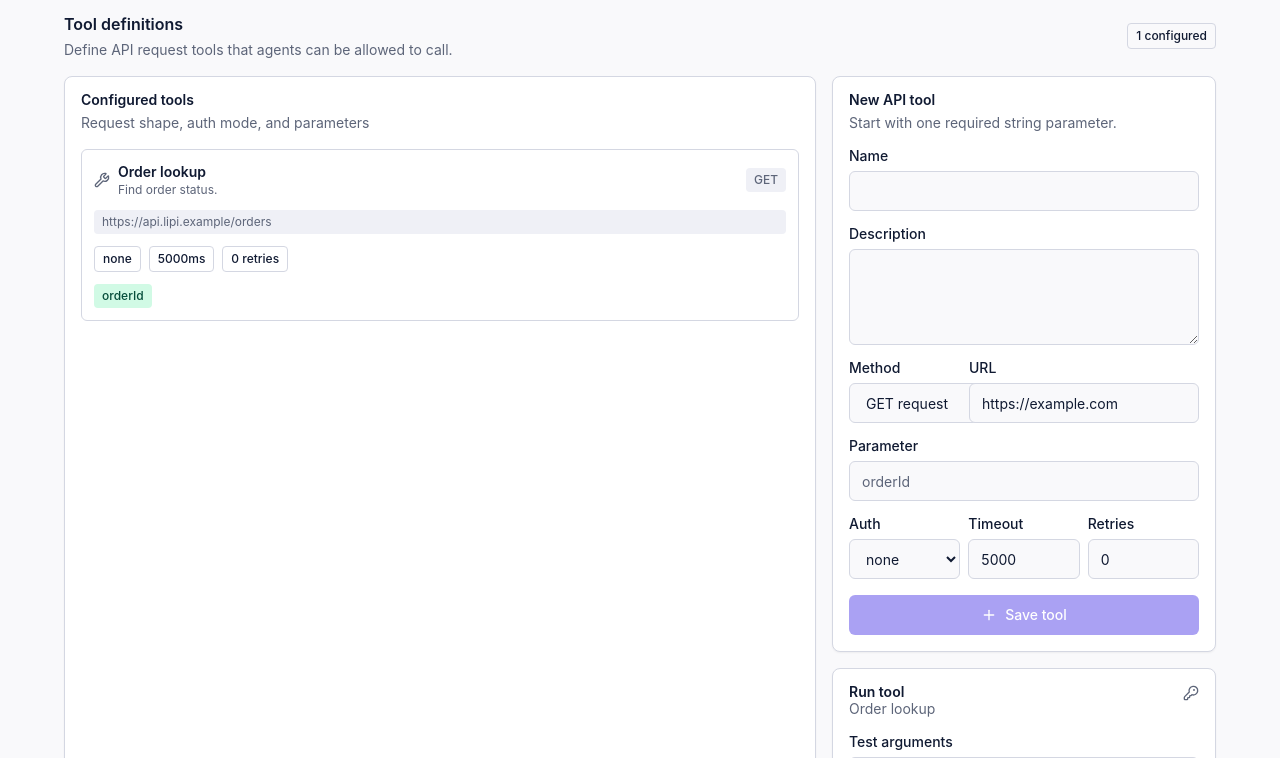
Scenario: ToolsPage › creates a tool and appends it to the list
Type "CRM lookup" into the field labelled "Name" at [1024, 191], box 849,171 -> 1199,211
Type "Pull customer context." into the text box labelled "Description" at [1024, 297], box 849,249 -> 1199,345
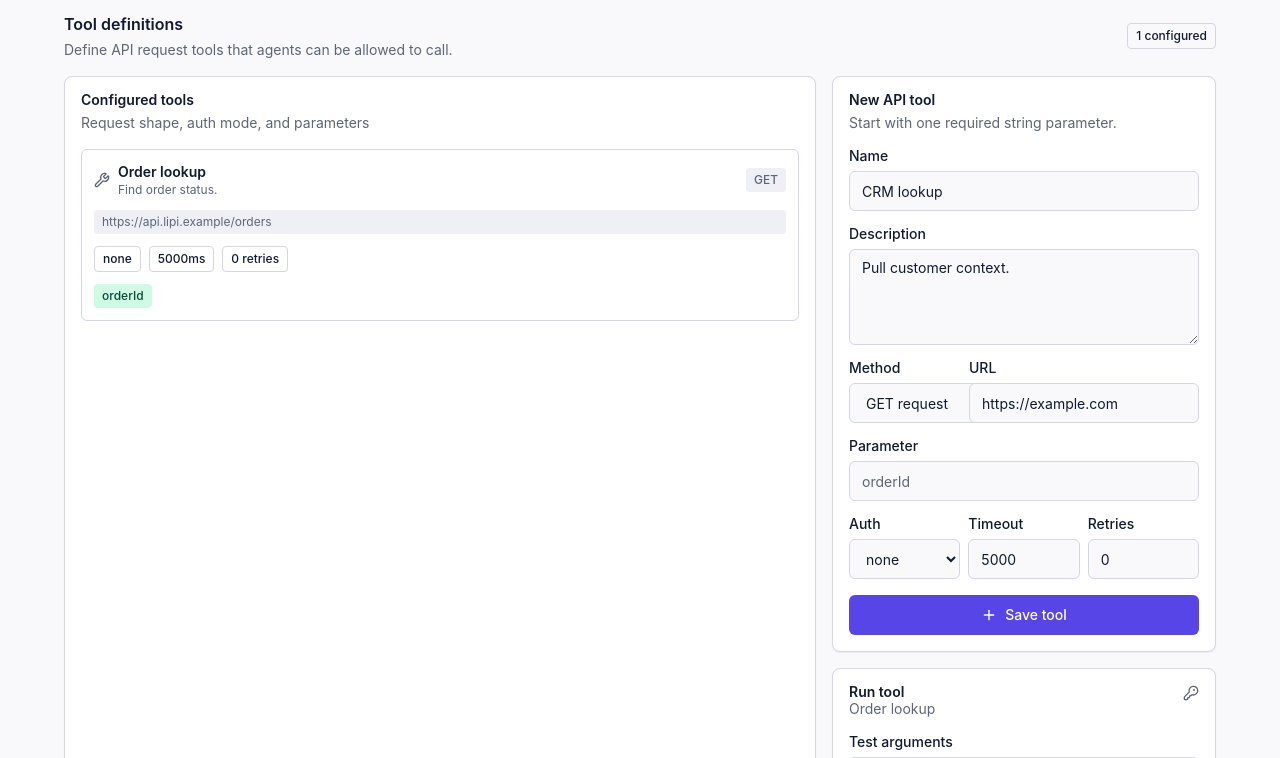
Replace the text in the field labelled "URL" with "https://example.com/customers" at [1084, 403], box 969,383 -> 1199,423
Type "customerId" into the field labelled "Parameter" at [1024, 481], box 849,461 -> 1199,501
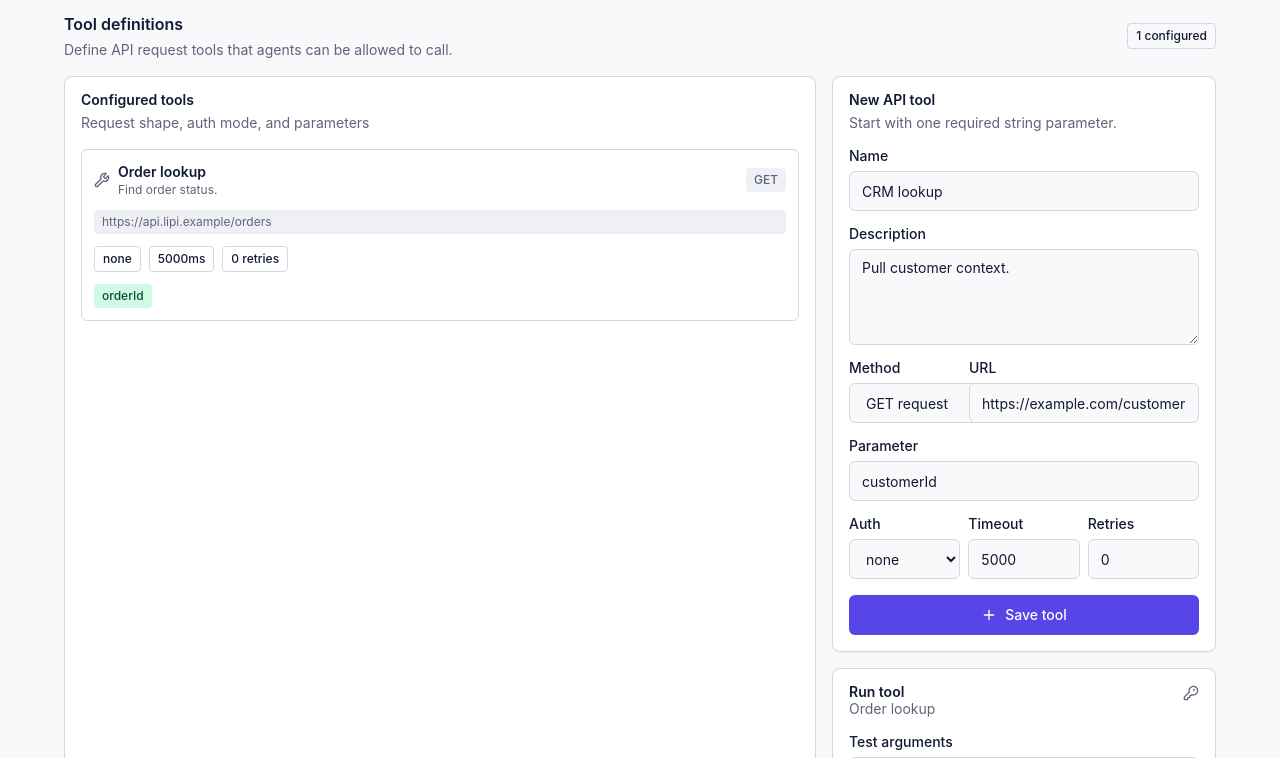
Select "header" in the dropdown labelled "Auth" at [905, 559], box 849,539 -> 960,579
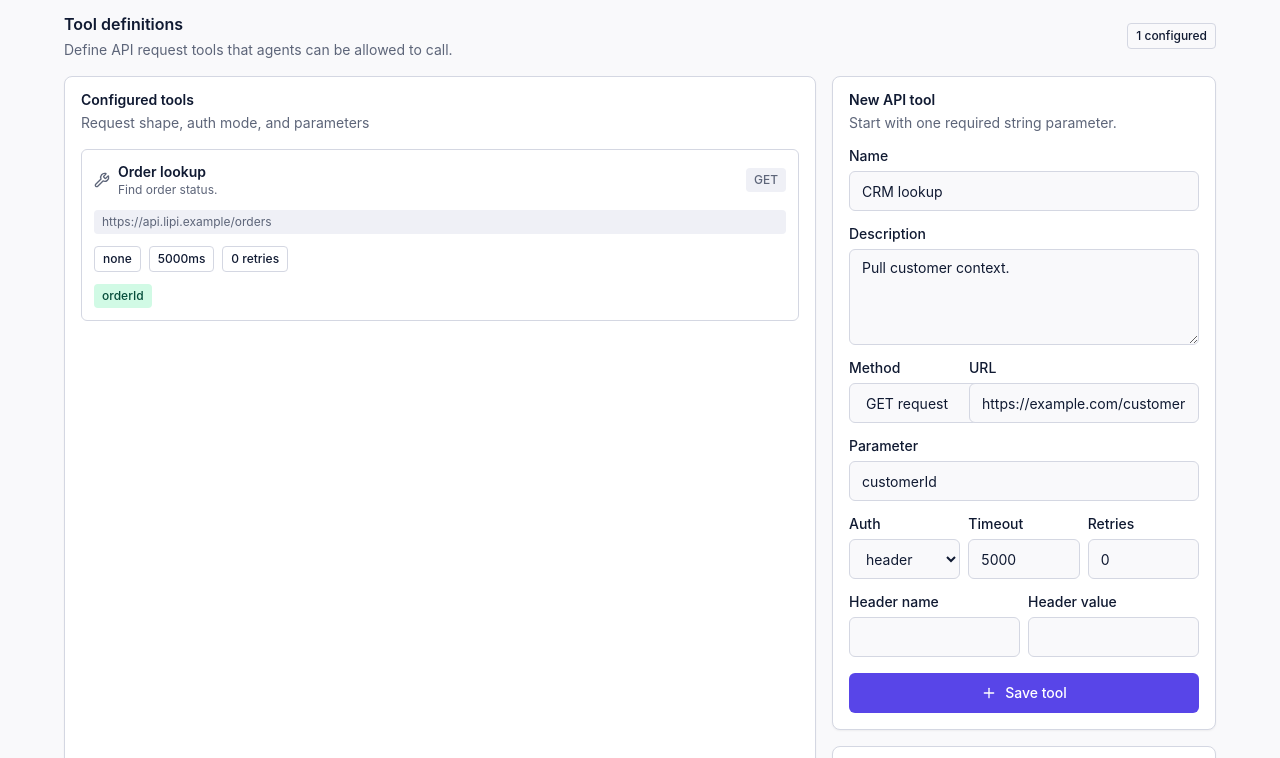
Type "authorization" into the field labelled "Header name" at [934, 637], box 849,617 -> 1020,657
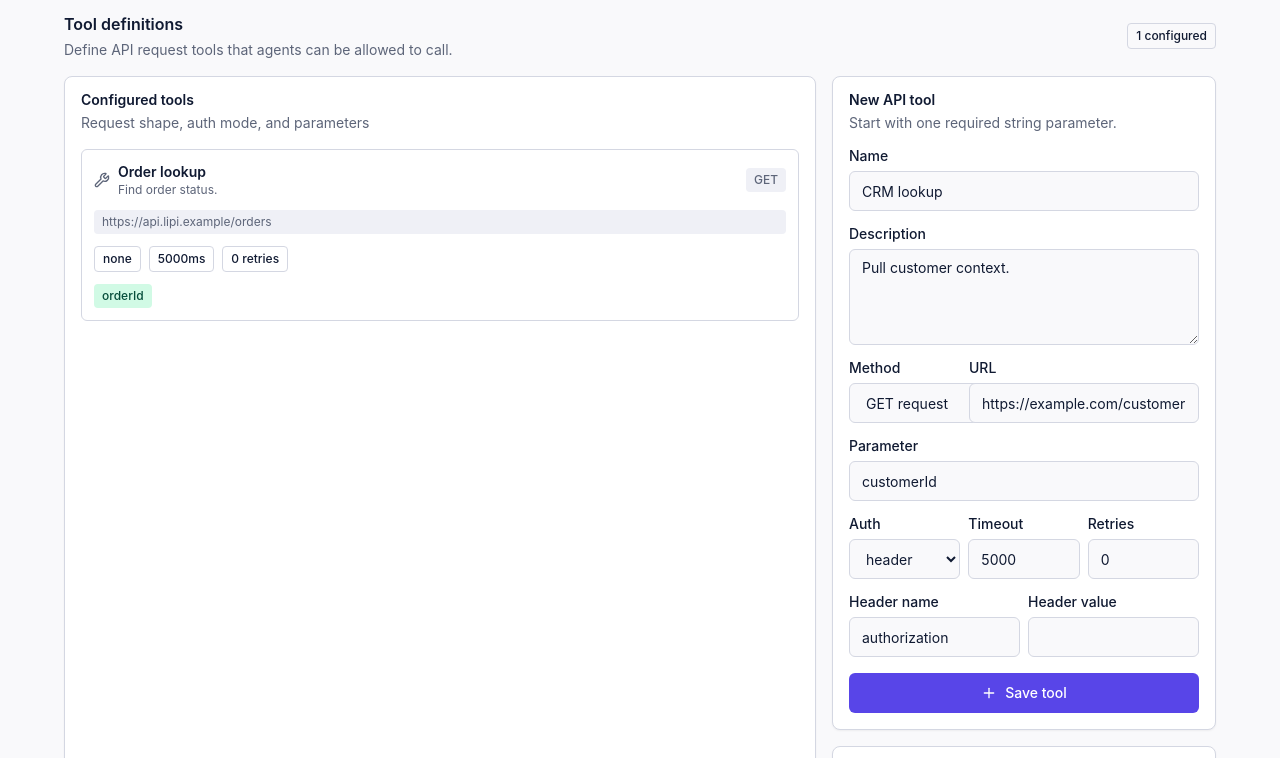
Type "Bearer secret" into the password field labelled "Header value" at [1114, 637], box 1028,617 -> 1199,657
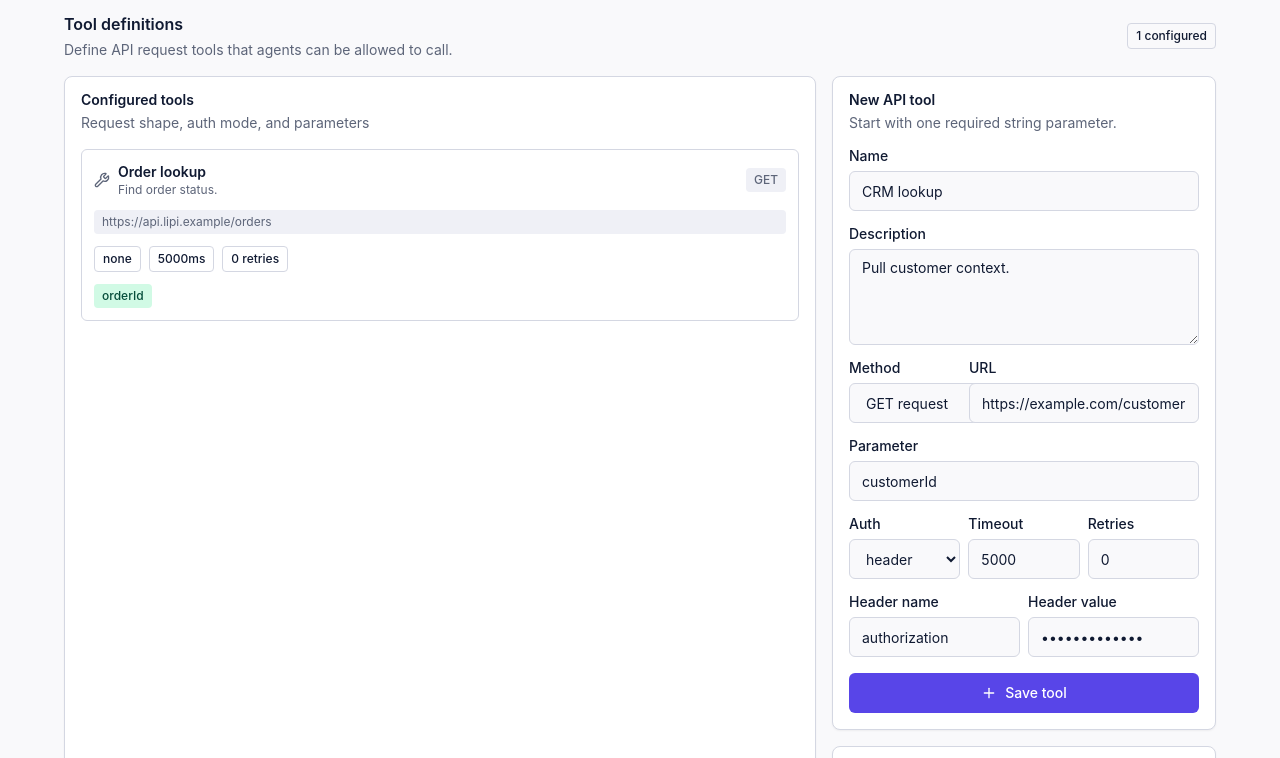
Click the button "Save tool" at [1024, 693], box 849,673 -> 1199,713
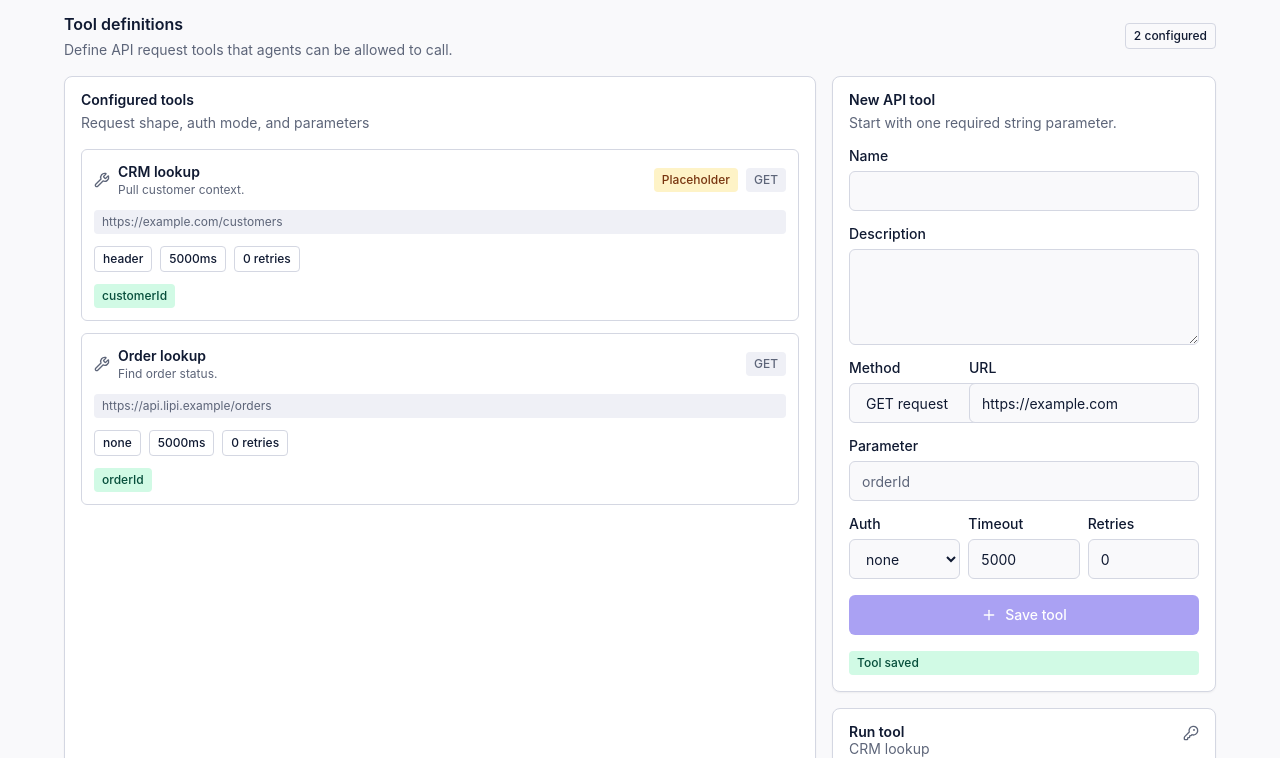
Now the text "Tool saved" is shown, box 849,651 -> 1199,675
